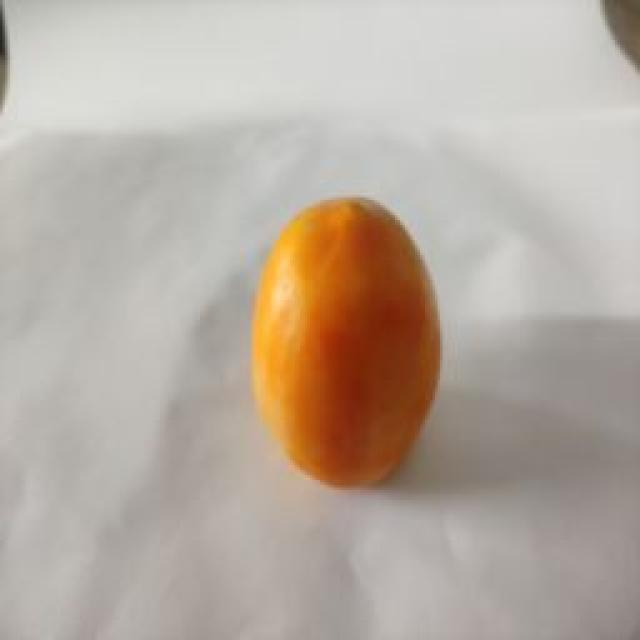tomato: (254, 194, 441, 491)
